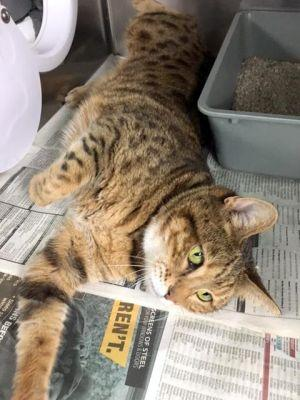bengal: (128, 184, 296, 337)
